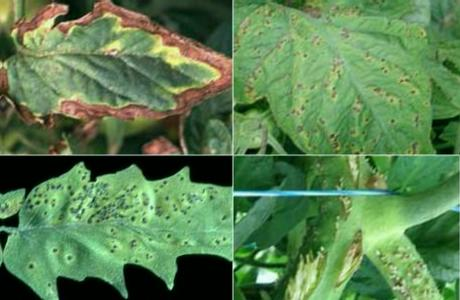Tomato leaf bacterial spot: (9, 6, 225, 144), (241, 0, 434, 149), (4, 165, 229, 291)
